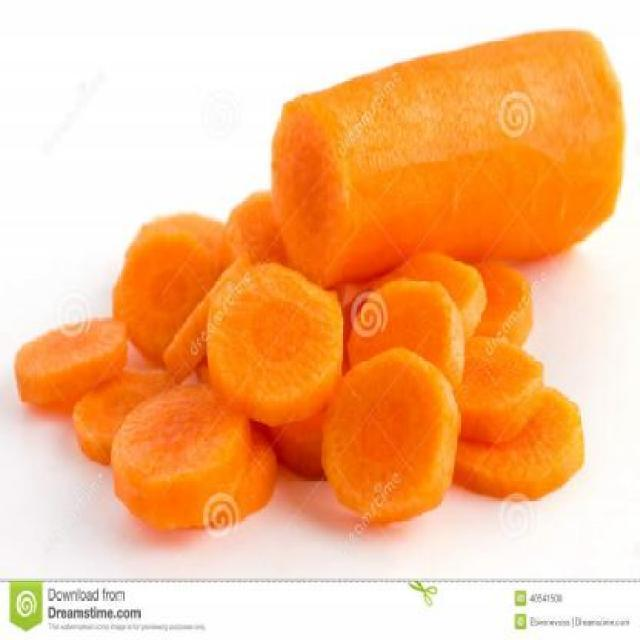carrot: (266, 22, 625, 295)
